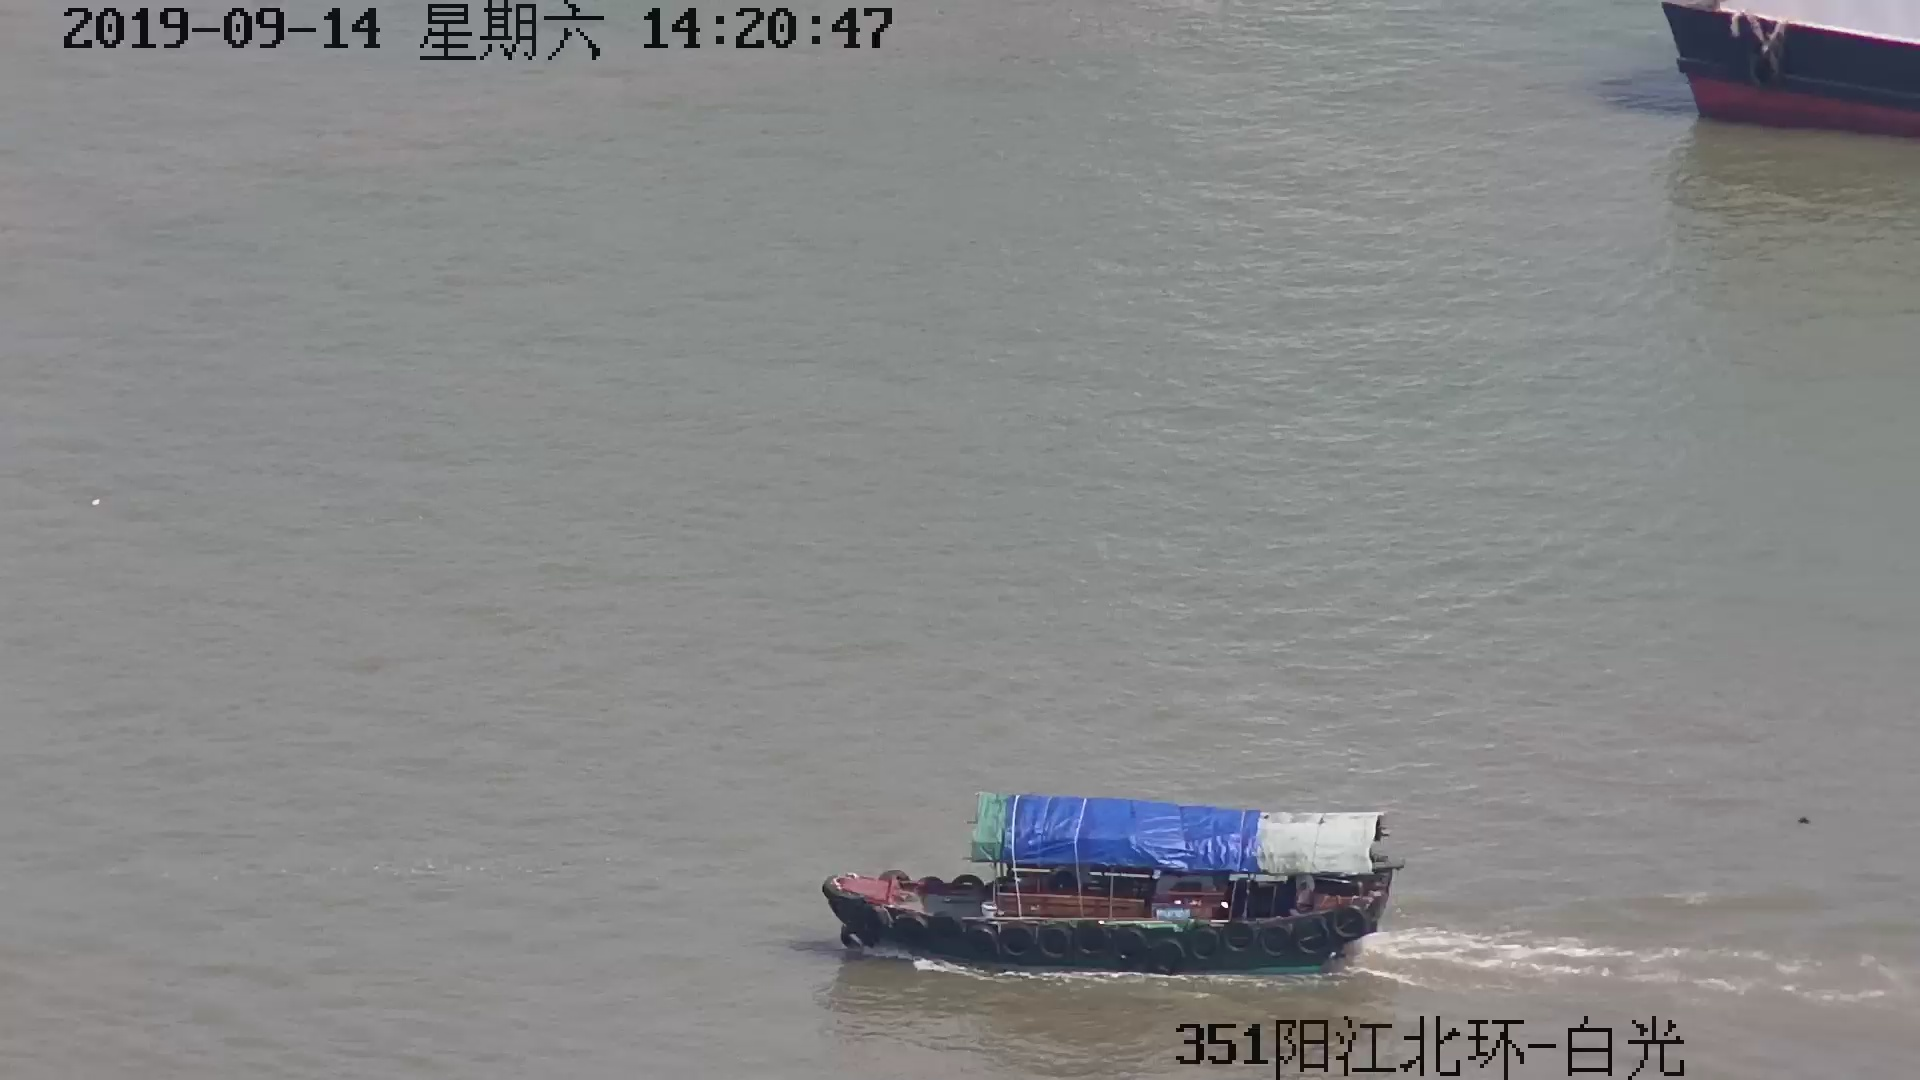ship: (822, 787, 1400, 971)
